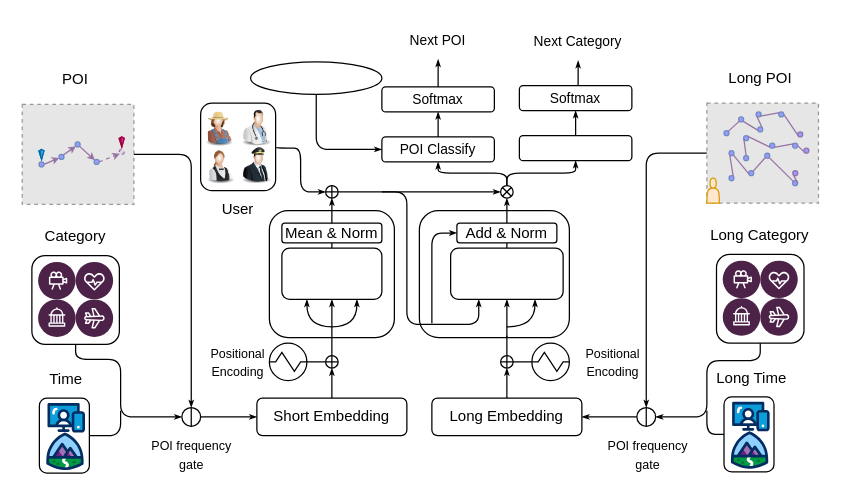
Image size: 850x495. Some labels were removed from this diagram. Grey dashed boxes stand in for pictures. Each missing label, with the centre of its shape:
"Category Classify" goes at point (575, 147).
"Mutli-Head Attention" goes at point (331, 273).
"Mutli-Head Cross Attention" goes at point (506, 273).
"Neighboring POIs" goes at point (315, 77).
